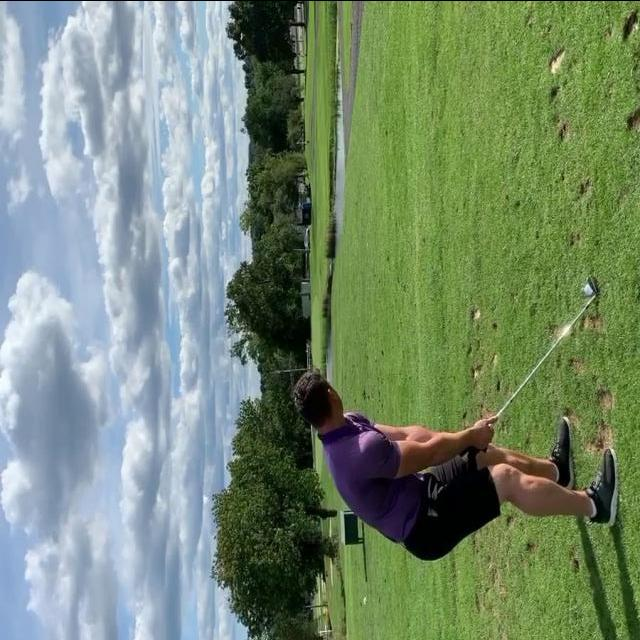golf ball: (584, 283, 592, 294)
golf club-handle: (467, 276, 600, 457)
golf club-head: (589, 276, 600, 295)
